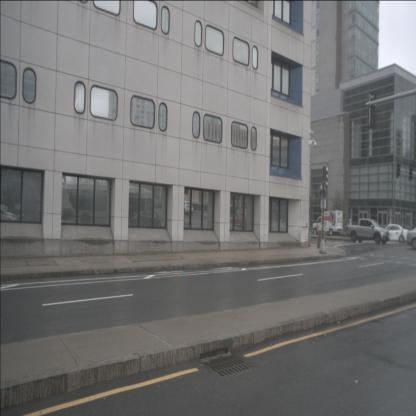vehicle-bus-rigid: (61, 183, 156, 237)
vehicle-car: (131, 210, 166, 233), (379, 223, 410, 244), (0, 206, 17, 231), (232, 212, 254, 228), (405, 226, 416, 250), (178, 200, 194, 215), (155, 199, 169, 210)
vehicle-truck: (346, 217, 390, 245), (312, 210, 343, 235)
